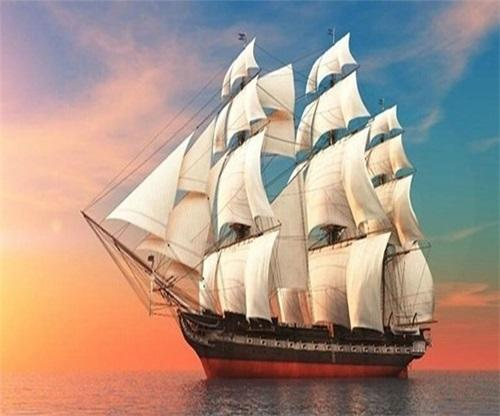Ship: (79, 30, 435, 385)
